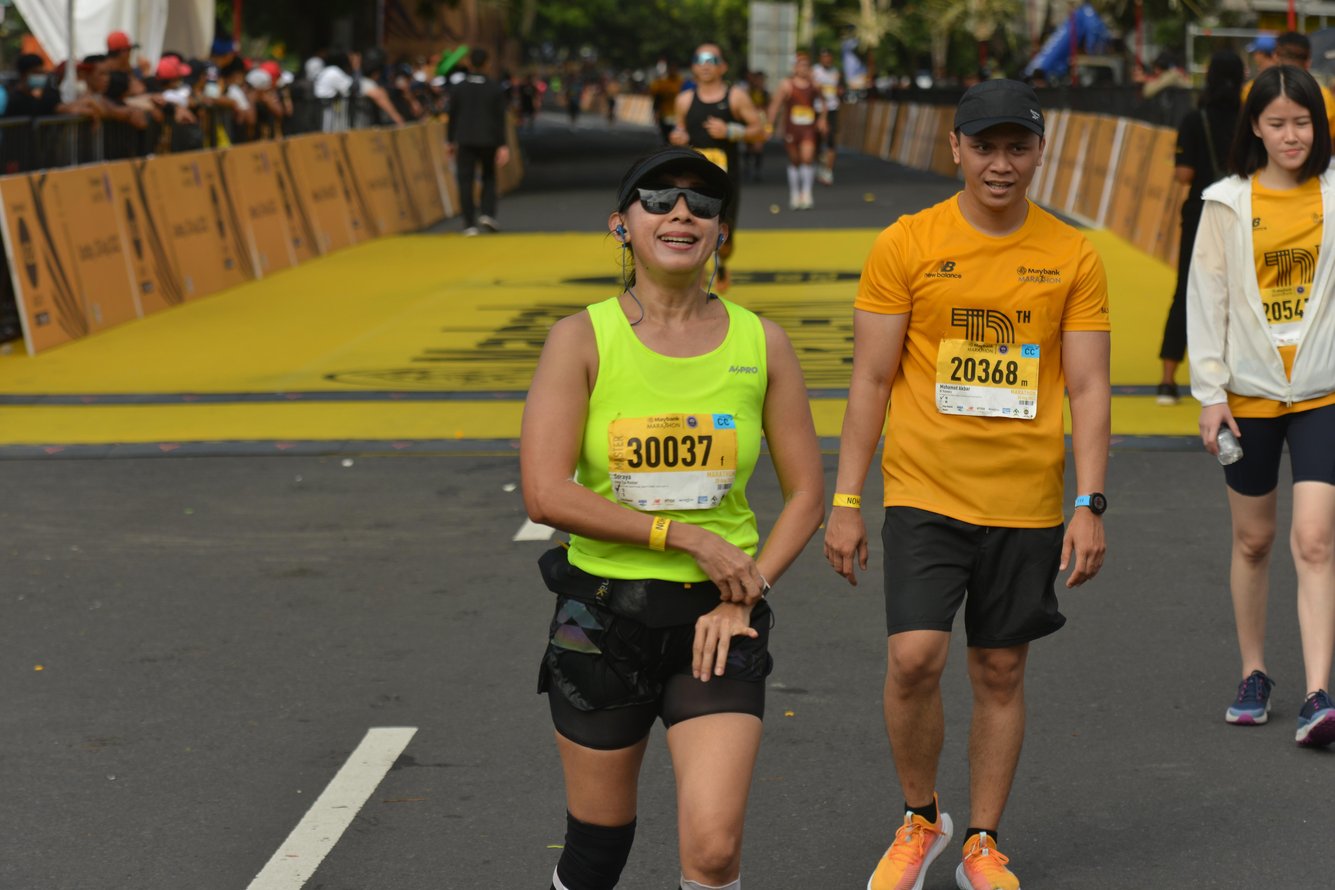bib: (605, 416, 736, 510), (935, 341, 1038, 418), (1259, 286, 1313, 341), (790, 108, 814, 124)
